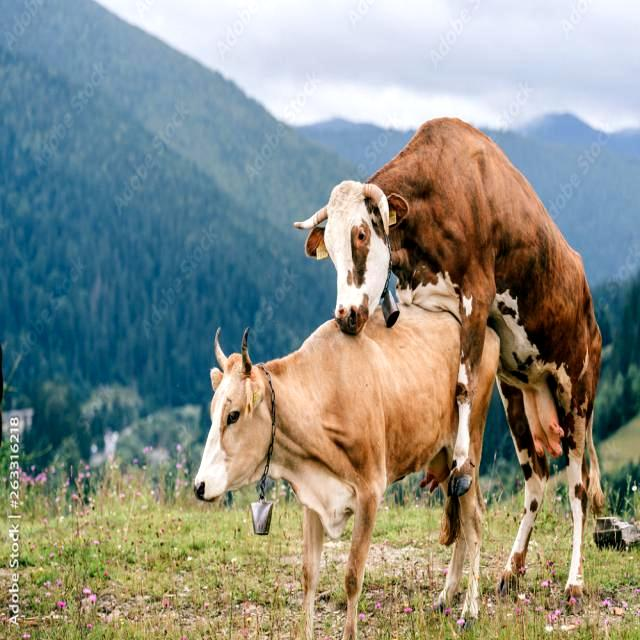COW: (295, 119, 602, 596), (195, 305, 460, 640), (439, 479, 482, 618)
